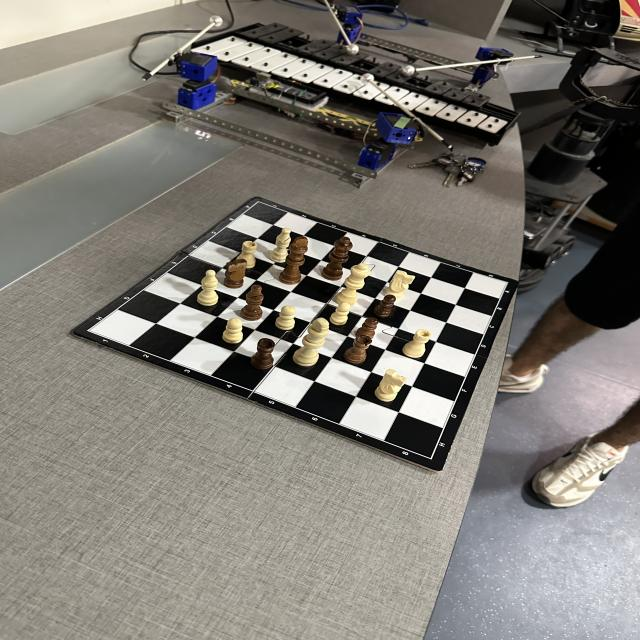Black-Bishop: (240, 284, 264, 321)
Black-King: (278, 236, 309, 285)
Black-Knight: (224, 259, 248, 289)
Black-Pawn: (374, 294, 396, 318), (355, 317, 378, 339)
Black-Queen: (321, 236, 353, 281)
Black-Rook: (343, 334, 372, 364), (250, 338, 275, 369)
White-Bishop: (197, 270, 219, 306), (270, 228, 292, 263)
White-King: (292, 318, 330, 367)
White-Knight: (375, 369, 406, 402), (384, 270, 416, 299)
White-Pawn: (222, 318, 243, 344), (329, 302, 351, 325), (275, 306, 296, 330)
White-Queen: (335, 264, 371, 306)
White-Rook: (402, 330, 431, 358), (236, 240, 256, 268)
